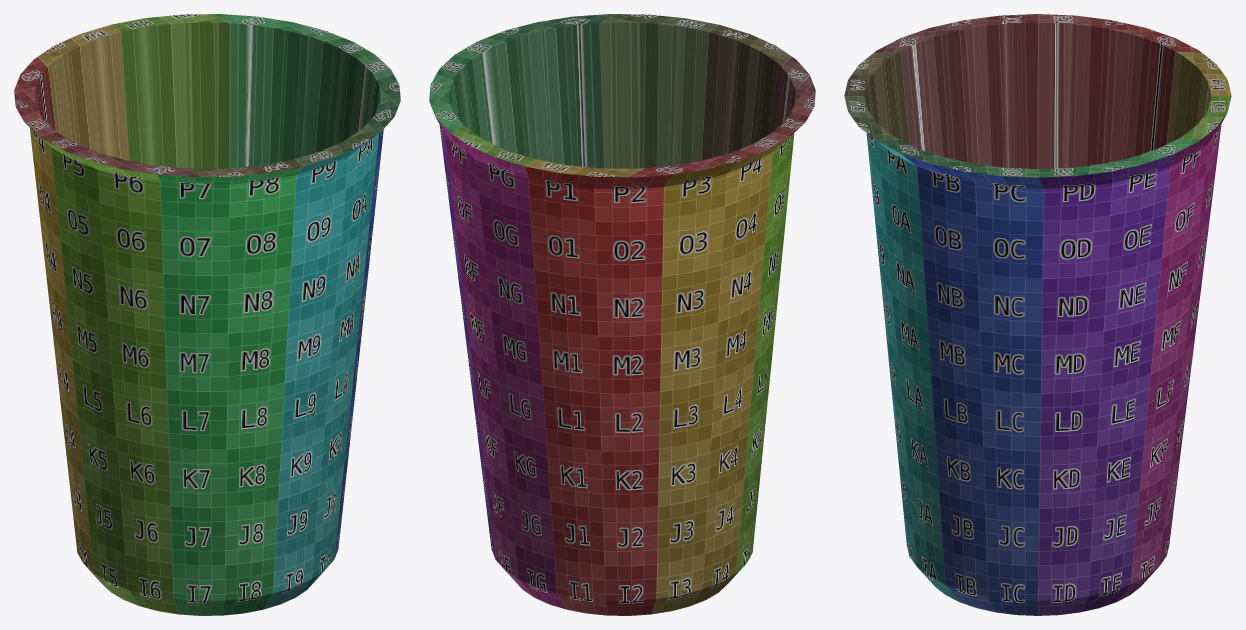
Rendered from cup.glb.
3 renders of one model, left to right at view 1: azimuth 30°, elevation 25°; view 2: azimuth 150°, elevation 25°; view 3: azimuth 270°, elevation 25°, orthographic.
Visible parts, largest first — view 1: Cylinder; view 2: Cylinder; view 3: Cylinder.
Boxes of the visible parts, x1=… form: Cylinder: x1=14, y1=14, x2=400, y2=615; Cylinder: x1=429, y1=14, x2=815, y2=615; Cylinder: x1=844, y1=14, x2=1231, y2=615.
Size of the model in its own units: 3.54 by 4.77 by 3.54.
1 material, 1 textured.
